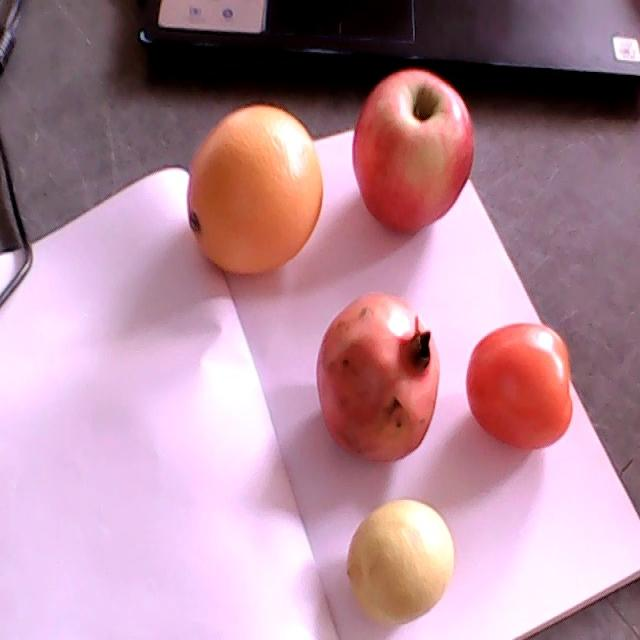apple: (353, 69, 474, 236)
lemon: (347, 500, 454, 623)
orange: (188, 106, 323, 277)
pomegranate: (317, 291, 439, 463)
tomato: (467, 324, 572, 451)
